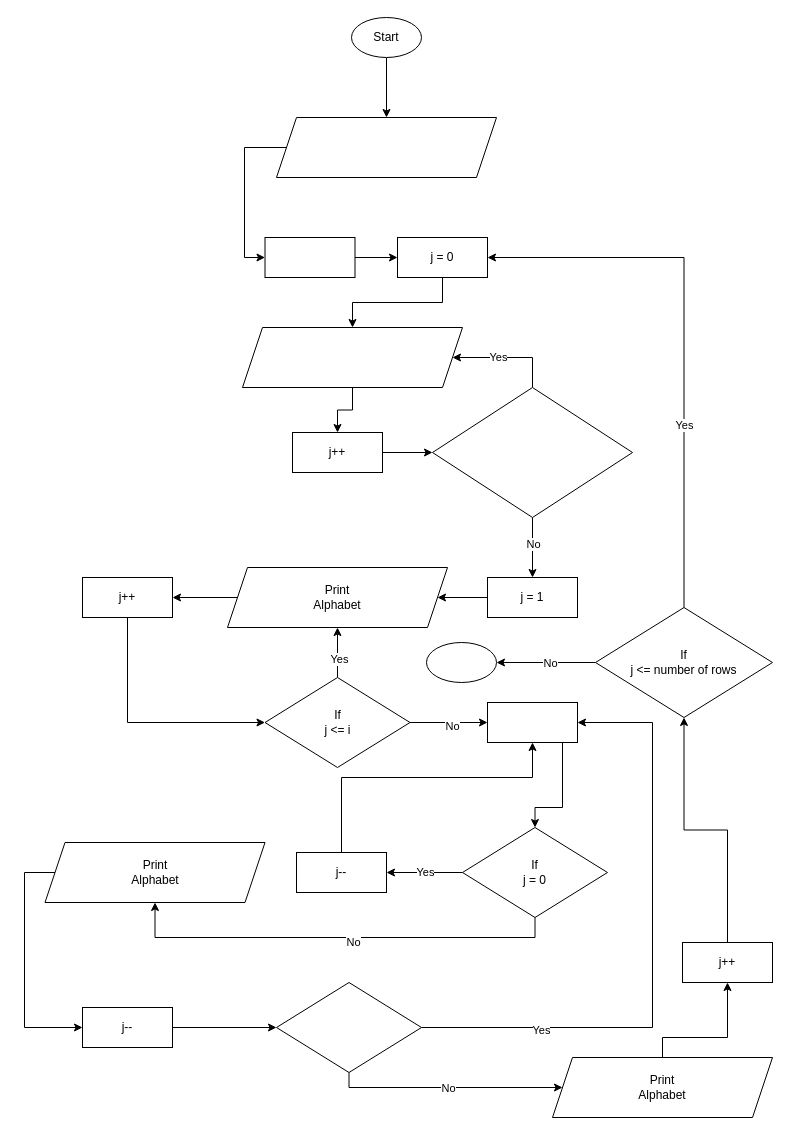
Image size: 790x1135. Some labels were removed from this diagram. Here are the shapes that lost their labels. From the top down, the box of each, then its label:
(276, 116, 496, 178): Enter the number of rows
(264, 236, 355, 278): i = 1
(242, 326, 462, 388): Print White Space
(432, 386, 632, 518): If j <= number of rows - i
(426, 642, 496, 682): Stop
(486, 702, 578, 742): j = i - 1
(276, 982, 422, 1072): If j >= 1
